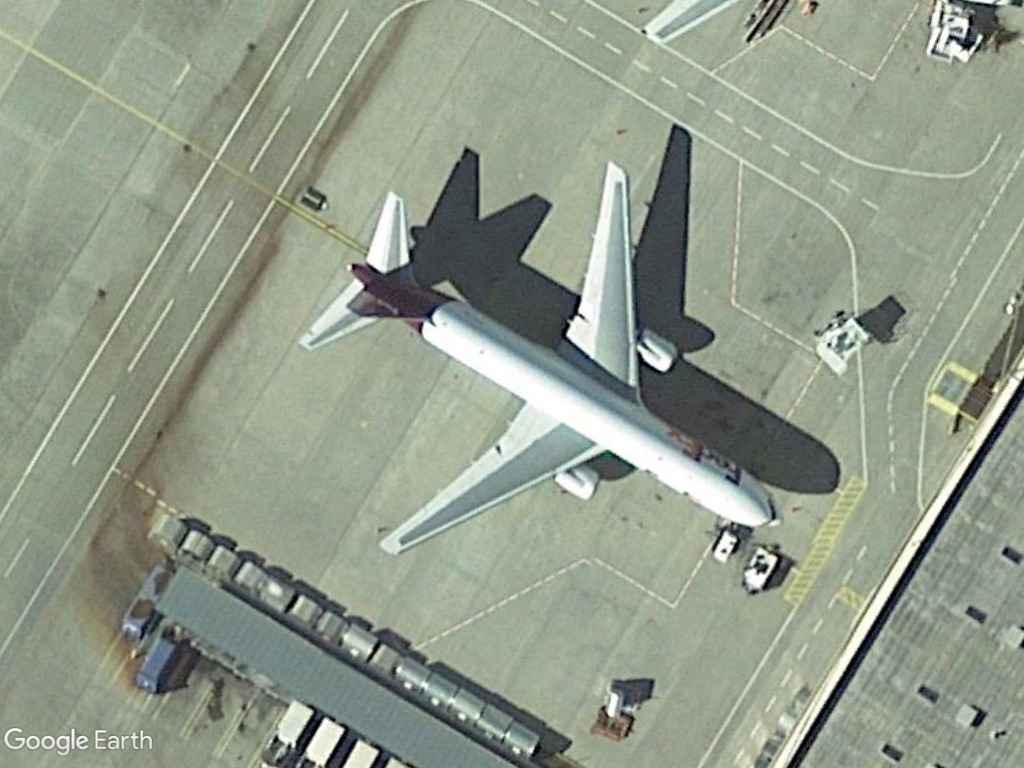airliner: (302, 164, 775, 562)
